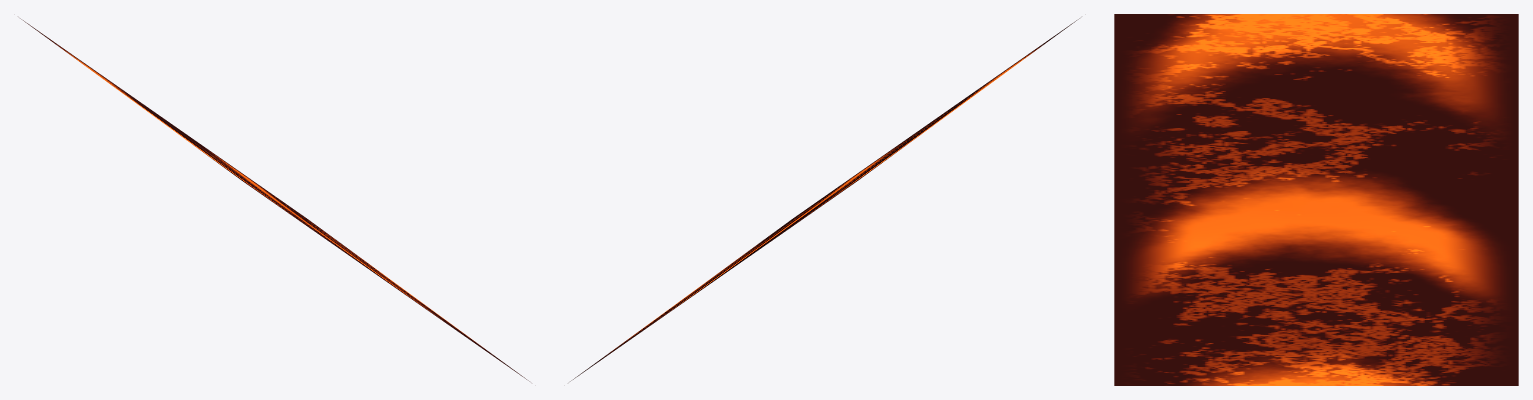
Rendered from ripple_42.glb.
3 renders of one model, left to right at view 1: azimuth 30°, elevation 25°; view 2: azimuth 150°, elevation 25°; view 3: azimuth 270°, elevation 25°, orthographic. The views are drawn at different scales.
Visible parts, largest first — view 1: r; view 2: r; view 3: r.
Boxes of the visible parts, x1,y1,x2,y2 form: r: [20, 18, 529, 381]; r: [570, 18, 1079, 381]; r: [1114, 14, 1518, 385].
Bounding box in the file's own units: 0.7431 × 0.6691 × 1.
Materials: 1 (1 with a texture image).
